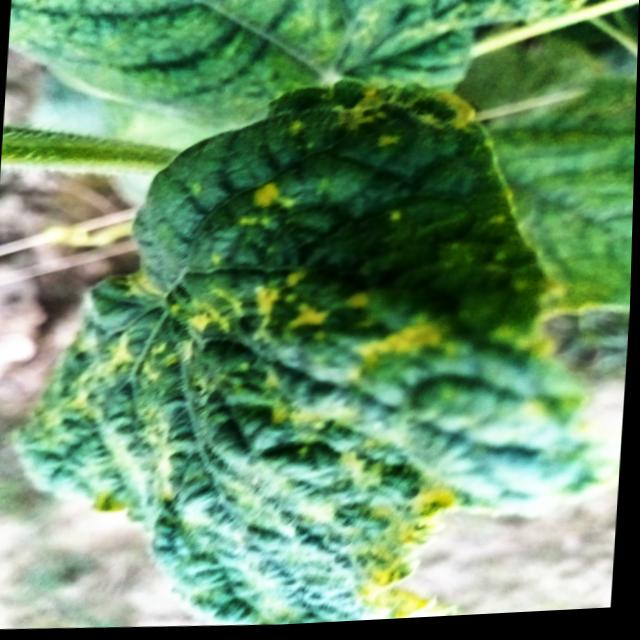Downy-Mildew: (6, 80, 624, 628)
